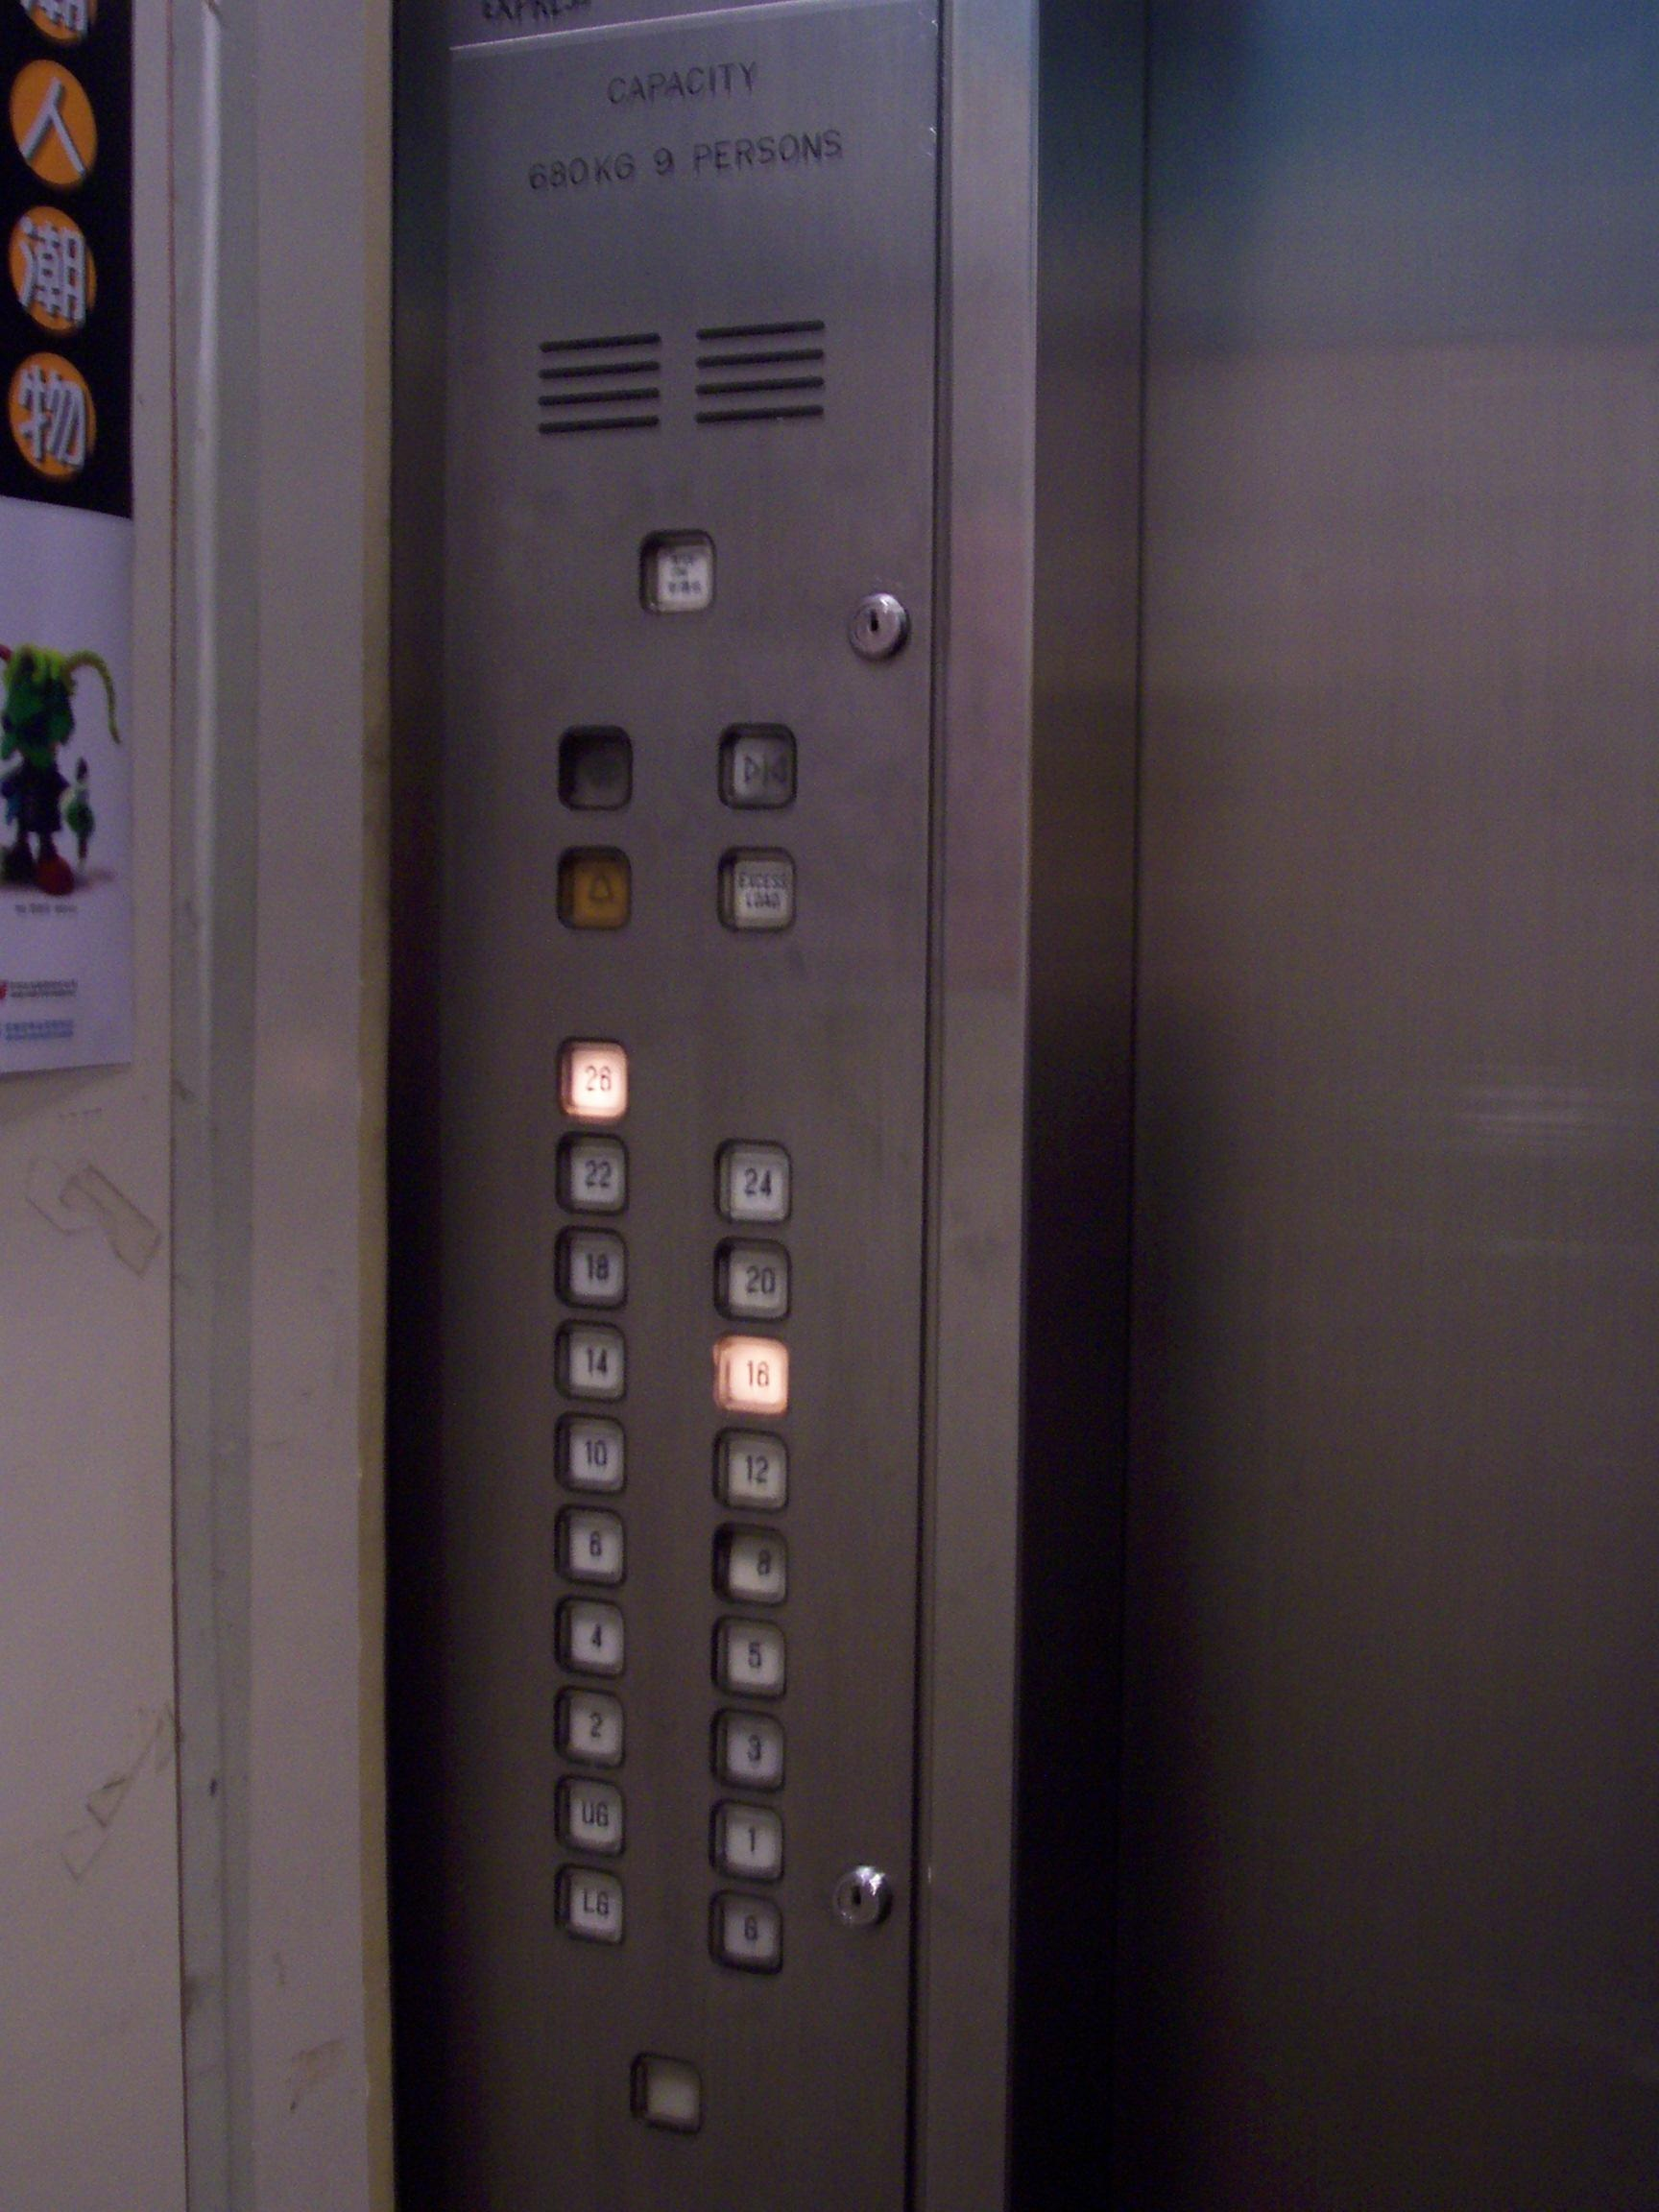1: (709, 1796, 784, 1883)
10: (554, 1409, 629, 1494)
12: (711, 1423, 793, 1512)
14: (554, 1315, 629, 1404)
16: (711, 1331, 793, 1413)
18: (552, 1224, 633, 1308)
2: (552, 1683, 627, 1766)
20: (714, 1237, 789, 1318)
22: (552, 1130, 633, 1216)
24: (711, 1137, 795, 1226)
26: (552, 1035, 633, 1122)
3: (711, 1707, 789, 1794)
4: (554, 1592, 629, 1679)
5: (713, 1615, 788, 1698)
8: (713, 1521, 793, 1604), (554, 1501, 631, 1585)
G: (709, 1888, 788, 1972)
LG: (554, 1855, 627, 1947)
UG: (554, 1770, 627, 1855)
alarm: (552, 841, 638, 934)
blur: (551, 723, 636, 815)
close: (713, 719, 800, 810)
empty: (629, 2043, 708, 2137)
keyhole: (843, 589, 910, 660), (835, 1864, 890, 1930)
text_blur: (713, 845, 800, 941), (634, 526, 720, 615)
